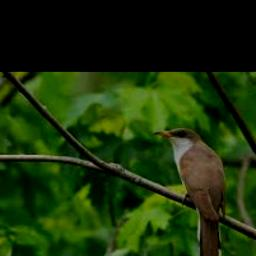Cuckoo: (153, 128, 227, 256)
